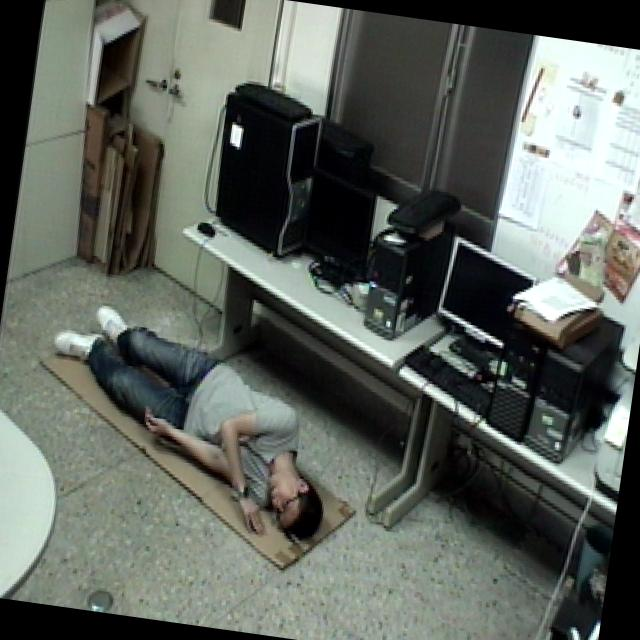lie: (19, 288, 358, 555)
